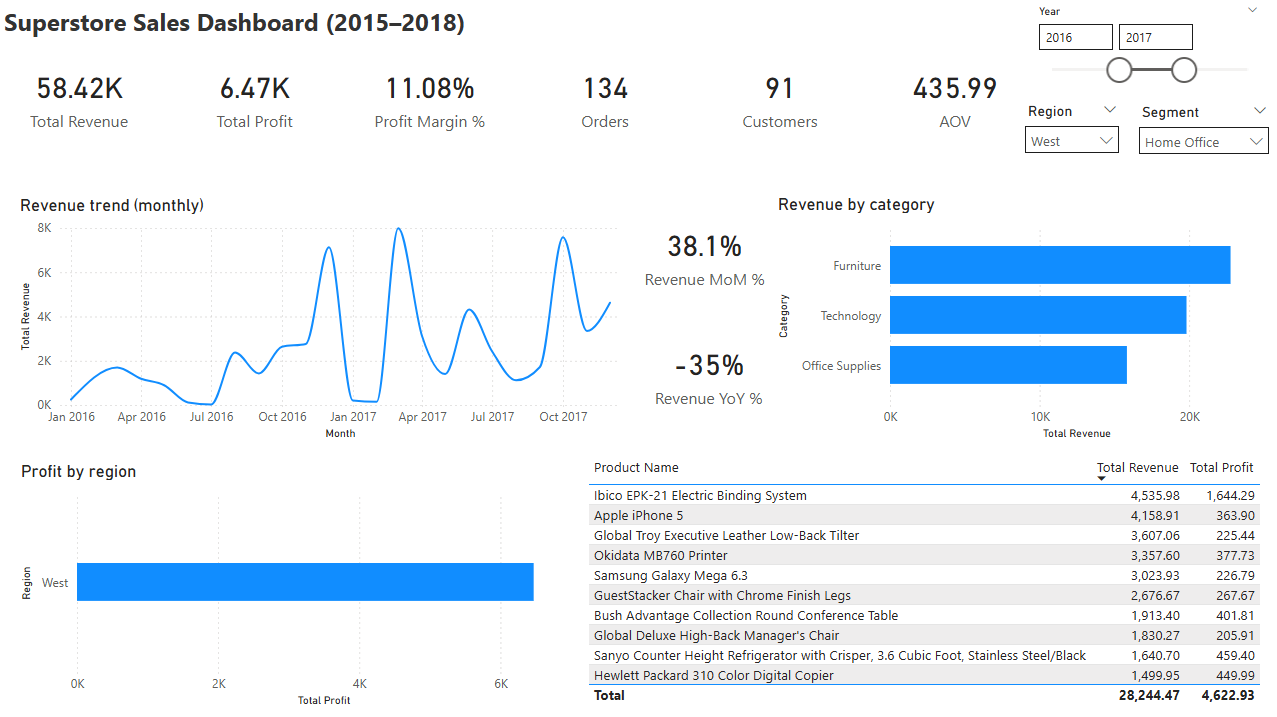

What the dashboard file says about the page in this screenshot:
{"tool":"powerbi","page":{"name":"Overview","canvas":[1280,720],"ordinal":0},"visuals":[{"type":"card","fields":{"Values":["superstore.Total Revenue"]},"box":[0.2,36.3,160,119.7],"z":0},{"type":"card","fields":{"Values":["superstore.Total Profit"]},"box":[175.7,36.3,159.6,119.7],"z":1000},{"type":"card","fields":{"Values":["superstore.Profit Margin %"]},"box":[350.8,36.3,159.6,119.7],"z":2000},{"type":"card","fields":{"Values":["superstore.Orders"]},"box":[525.9,36.3,159.6,119.7],"z":3000},{"type":"card","fields":{"Values":["superstore.Customers"]},"box":[701.1,36.3,159.6,119.7],"z":4000},{"type":"card","fields":{"Values":["superstore.AOV"]},"box":[876.2,36.3,159.6,119.7],"z":5000},{"type":"lineChart","title":"Revenue trend (monthly)","fields":{"Category":["dim_date.MonthStart"],"Y":["superstore.Total Revenue"]},"box":[16.3,195,623.9,249.4],"z":6000},{"type":"clusteredBarChart","title":"Revenue by category","fields":{"Y":["superstore.Total Revenue"],"Category":["superstore.Category"]},"box":[774.4,194.1,506,250.3],"z":7000},{"type":"clusteredBarChart","title":"Profit by region","fields":{"Y":["superstore.Total Profit"],"Category":["superstore.Region"]},"box":[17,461,567,250],"z":8000},{"type":"tableEx","fields":{"Values":["superstore.Product Name","superstore.Total Revenue","superstore.Total Profit"]},"box":[584,452,696,266],"z":9000},{"type":"card","fields":{"Values":["dim_date.Revenue MoM % (Latest)"]},"box":[640.2,195,130.6,118.8],"z":10000},{"type":"card","fields":{"Values":["dim_date.Revenue YoY % (Latest)"]},"box":[644.7,313.8,129.7,118.8],"z":11000},{"type":"slicer","fields":{"Values":["dim_date.Year"]},"box":[1027,0,244,99],"z":12000},{"type":"slicer","fields":{"Values":["superstore.Region"]},"box":[1016,98,114,96],"z":13000},{"type":"slicer","fields":{"Values":["superstore.Segment"]},"box":[1130,99,150,96],"z":14000},{"type":"textbox","box":[0,0,955.8,44.4],"z":15000}]}

Visuals, with their boxes in screenshot pixels (x1, y1, x2, y2), scaled from the page's 1280x720 canvas onto the 1277x717 screenshot:
card - superstore.Total Revenue: select_region(0, 36, 160, 155)
card - superstore.Total Profit: select_region(175, 36, 335, 155)
card - superstore.Profit Margin %: select_region(350, 36, 509, 155)
card - superstore.Orders: select_region(525, 36, 684, 155)
card - superstore.Customers: select_region(699, 36, 859, 155)
card - superstore.AOV: select_region(874, 36, 1033, 155)
"Revenue trend (monthly)" lineChart: select_region(16, 194, 639, 443)
"Revenue by category" clusteredBarChart: select_region(773, 193, 1276, 443)
"Profit by region" clusteredBarChart: select_region(17, 459, 583, 708)
tableEx - superstore.Product Name x superstore.Total Revenue: select_region(583, 450, 1276, 715)
card - dim_date.Revenue MoM % (Latest): select_region(639, 194, 769, 312)
card - dim_date.Revenue YoY % (Latest): select_region(643, 312, 773, 431)
slicer - dim_date.Year: select_region(1025, 0, 1268, 99)
slicer - superstore.Region: select_region(1014, 98, 1127, 193)
slicer - superstore.Segment: select_region(1127, 99, 1276, 194)
textbox: select_region(0, 0, 954, 44)
